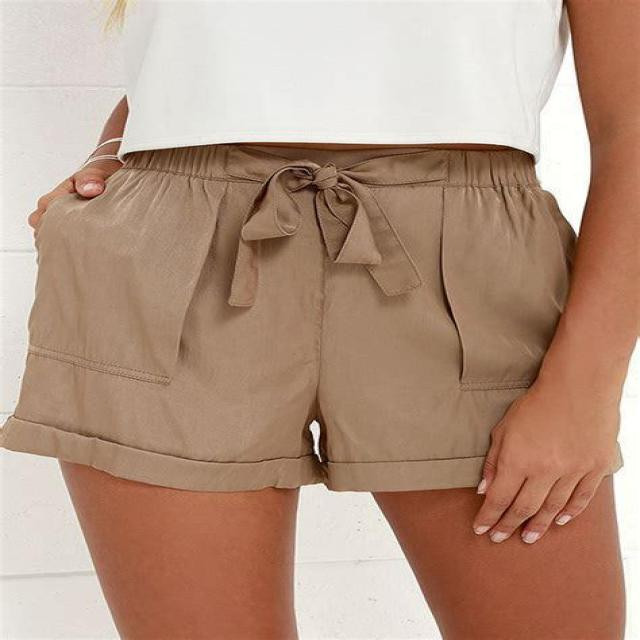short: (0, 141, 624, 492)
